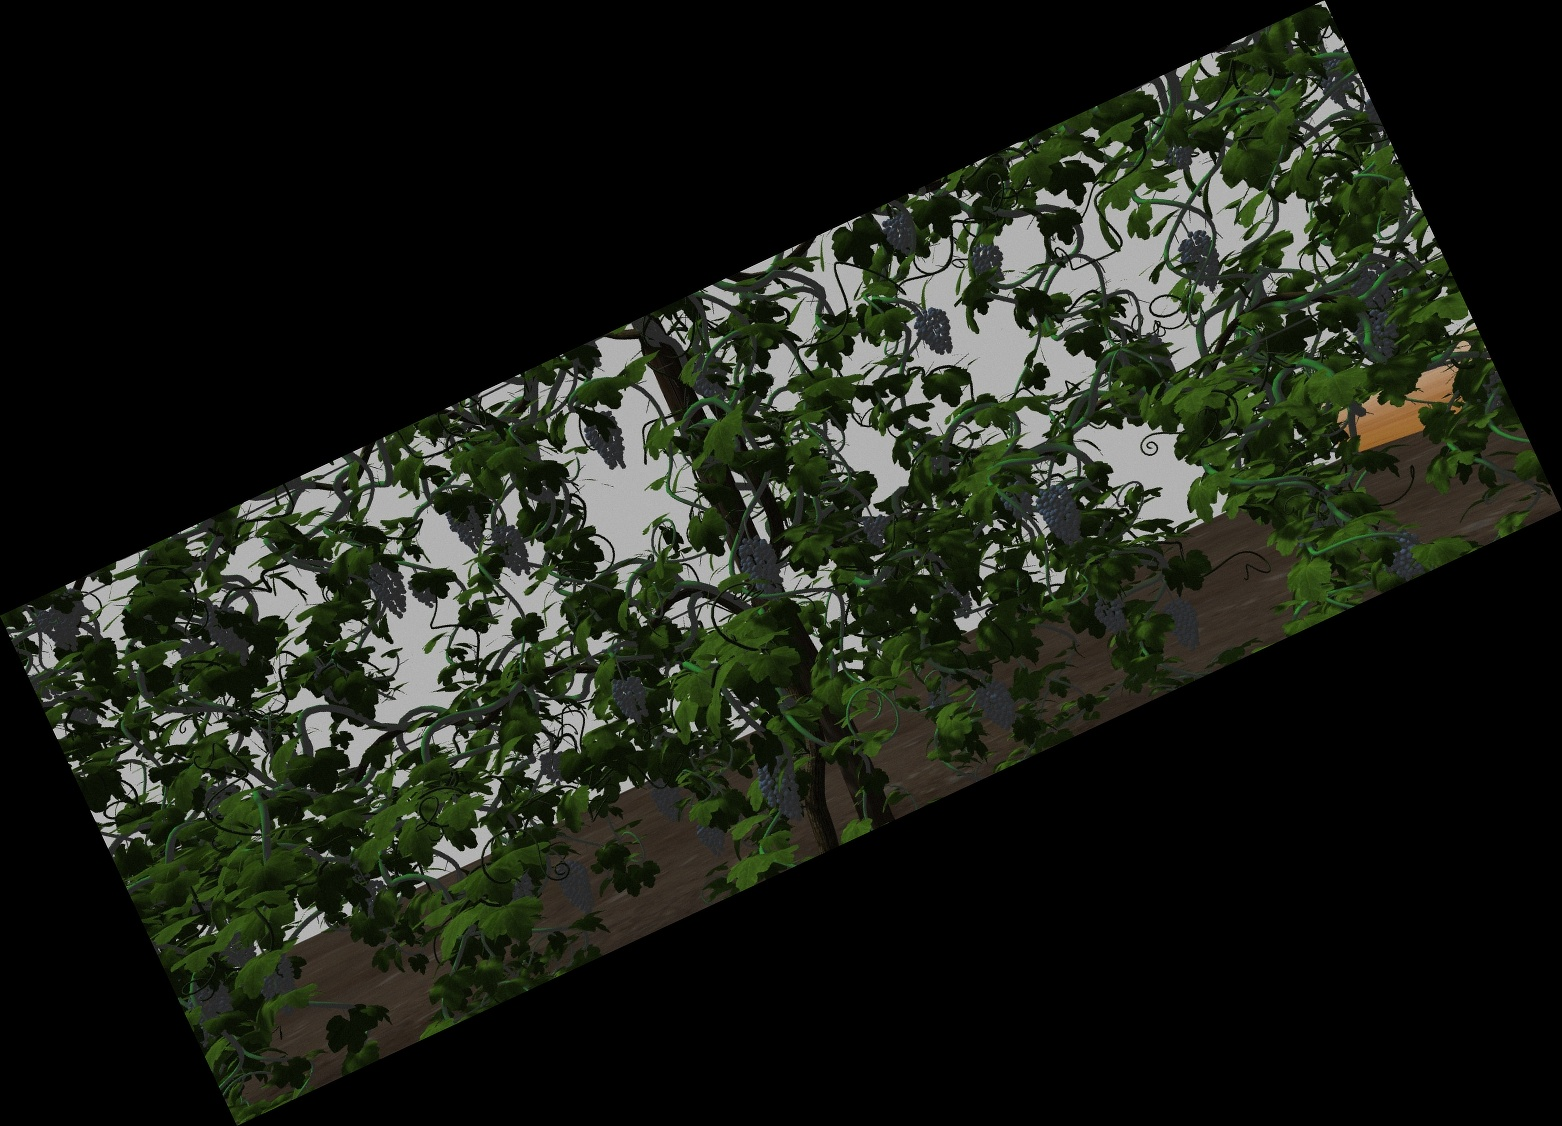grape: (1042, 485, 1081, 547), (193, 982, 234, 1037), (743, 536, 780, 599), (1182, 233, 1222, 290), (213, 603, 247, 669), (763, 758, 796, 825), (591, 413, 625, 472), (263, 961, 301, 1014), (374, 561, 407, 618), (1359, 312, 1396, 362), (1386, 531, 1425, 578), (1319, 53, 1353, 106), (979, 683, 1015, 730), (561, 860, 593, 914), (616, 675, 649, 724), (1169, 601, 1201, 652), (920, 309, 953, 358), (498, 522, 526, 578), (452, 505, 483, 553), (45, 607, 74, 655), (1353, 271, 1389, 309), (652, 775, 682, 821), (697, 358, 726, 404), (887, 214, 918, 254), (970, 241, 1002, 278), (55, 588, 86, 625), (699, 818, 725, 860), (1098, 597, 1123, 637), (866, 516, 893, 546), (541, 751, 568, 781), (1168, 147, 1195, 167)
